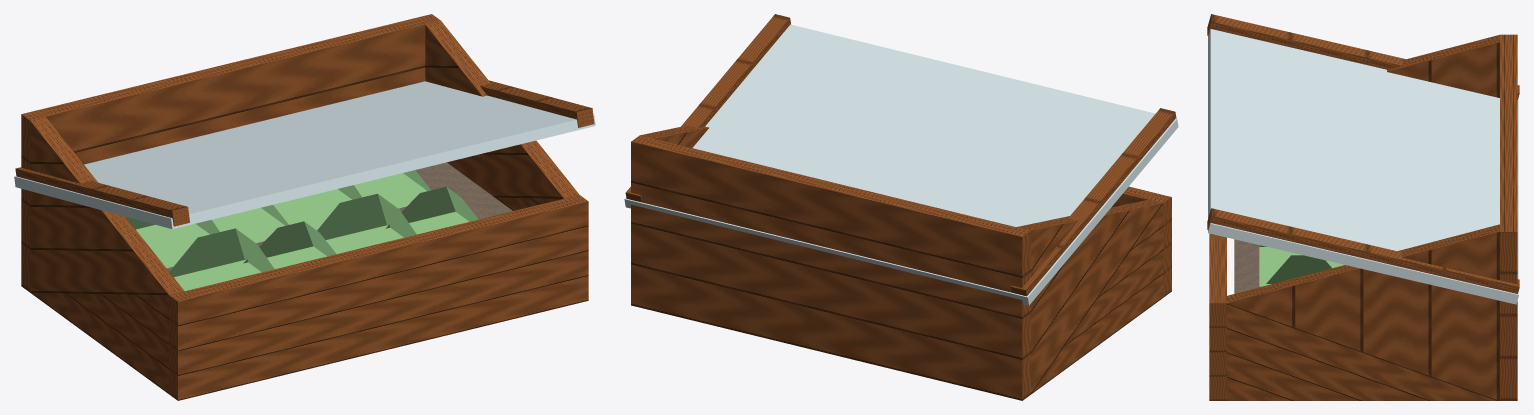
The model's file is allotments-and-community-garden-cold-frame-4dbe7f26__35138.glb.
3 views of the same model, side by side, from view 1: azimuth 30°, elevation 25°; view 2: azimuth 150°, elevation 25°; view 3: azimuth 270°, elevation 25° (orthographic). The views are drawn at different scales.
Visible parts, largest first — view 1: cold-frame-timber, lid/glass, cold-frame-leaf, lid/timber, cold-frame-soil; view 2: cold-frame-timber, lid/glass, lid/timber; view 3: lid/glass, cold-frame-timber, lid/timber, cold-frame-leaf, cold-frame-soil.
Boxes of the visible parts, bbox=[...] form: cold-frame-timber: bbox=[21, 14, 588, 400]; lid/glass: bbox=[14, 81, 595, 229]; cold-frame-leaf: bbox=[125, 170, 478, 290]; lid/timber: bbox=[15, 80, 594, 226]; cold-frame-soil: bbox=[167, 162, 512, 271]; cold-frame-timber: bbox=[631, 125, 1171, 400]; lid/glass: bbox=[624, 24, 1178, 305]; lid/timber: bbox=[625, 14, 1176, 296]; lid/glass: bbox=[1208, 29, 1518, 304]; cold-frame-timber: bbox=[1209, 34, 1517, 400]; lid/timber: bbox=[1207, 14, 1519, 293]; cold-frame-leaf: bbox=[1259, 245, 1344, 286]; cold-frame-soil: bbox=[1234, 239, 1261, 293].
Bounding box in the file's own units: 1.34 × 0.5768 × 0.8711.
Materials: 4 (2 with a texture image).
